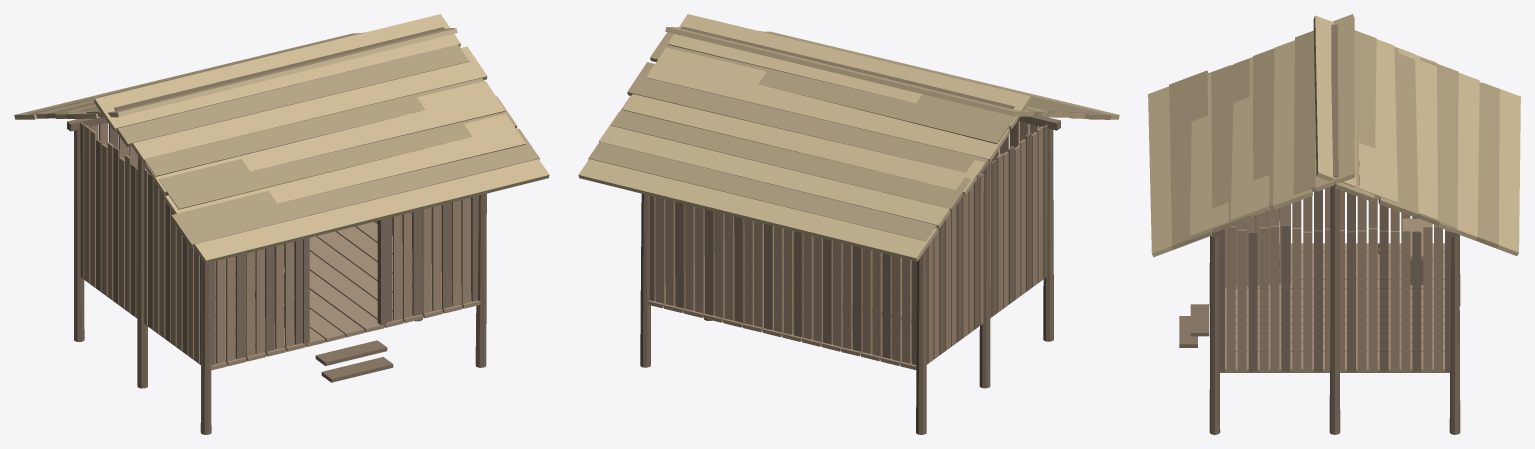
The model's file is rancho.glb.
The picture shows the model from 3 angles, left to right: view 1: azimuth 30°, elevation 25°; view 2: azimuth 150°, elevation 25°; view 3: azimuth 270°, elevation 25°; orthographic projection. The views are drawn at different scales.
Parts seen in each view (by area): view 1: rancho; view 2: rancho; view 3: rancho.
Boxes of the visible parts, x1,y1,x2,y2 form: rancho: (14,14,549,434); rancho: (578,14,1119,434); rancho: (1148,14,1520,434).
Size of the model in its own units: 5.12 by 4.03 by 4.97.
